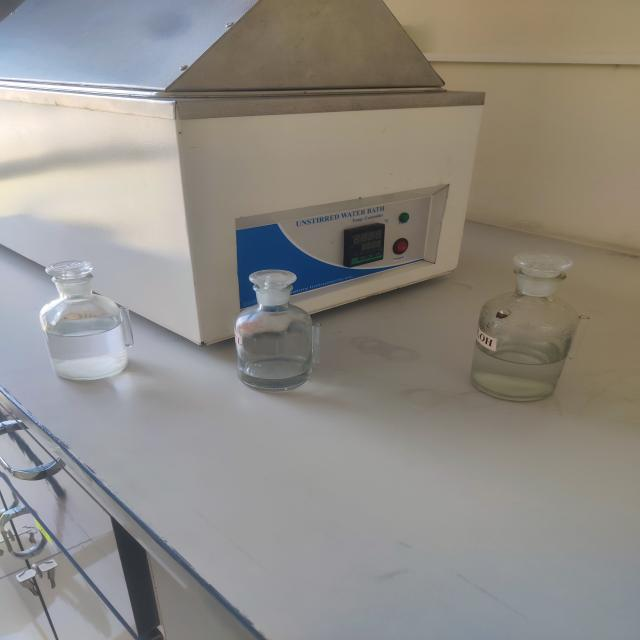Reagent_Bottle: (442, 215, 608, 432), (177, 237, 352, 416), (16, 240, 158, 400)
